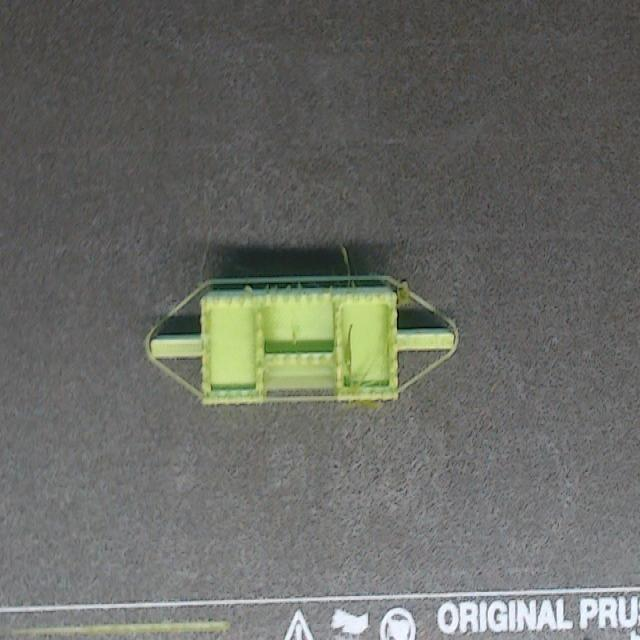mistake: (397, 280, 411, 305), (342, 244, 351, 275), (349, 348, 356, 384), (357, 400, 381, 408), (269, 281, 287, 291), (292, 327, 297, 352), (344, 280, 359, 285), (362, 369, 368, 379), (297, 283, 303, 291), (246, 285, 252, 291)
